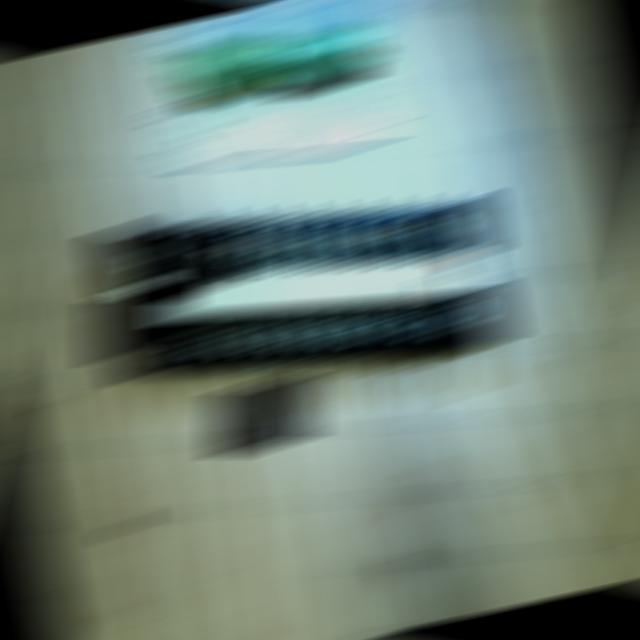Flathead_Block: (95, 203, 506, 372)
Terminal_1: (176, 41, 276, 87), (272, 30, 371, 74)
